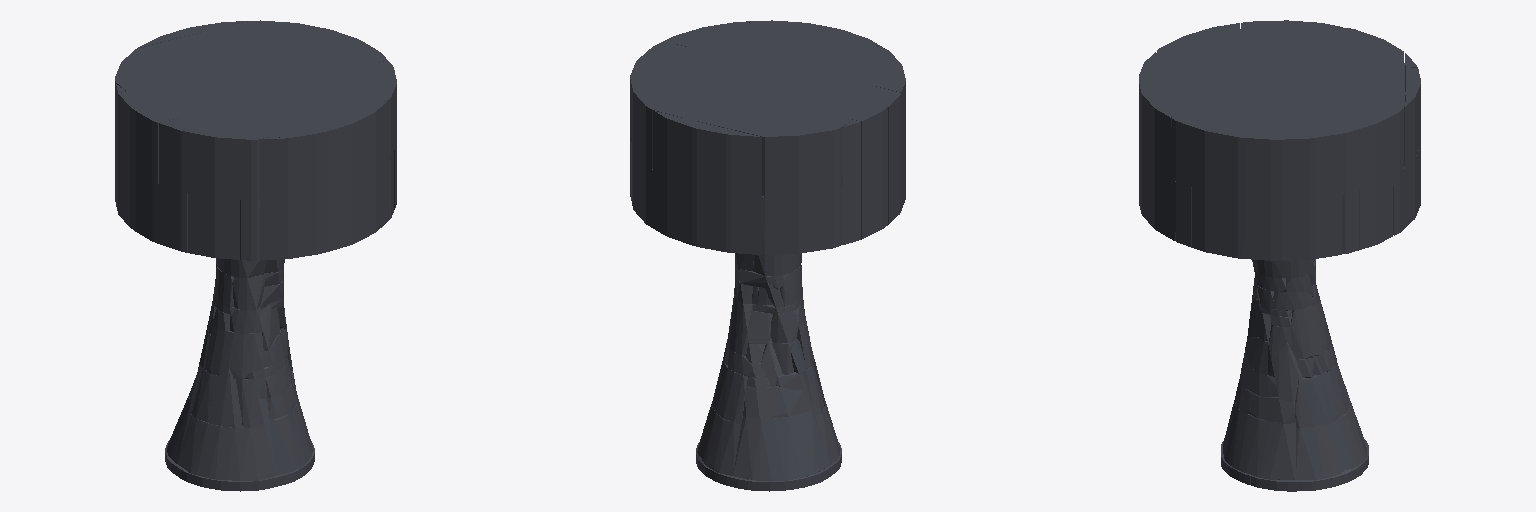
URDF robot description (../obj/lamp.urdf):
<?xml version="1.0" ?>
<robot name="../obj/lamp.urdf">
  <link name="baseLink">
    <inertial>
      <origin rpy="0 0 0" xyz="0.0011 0.002 0.0575"/>
       <mass value="50"/>
       <inertia ixx="8.92004524538395e-06" ixy="2.0707133592283134e-08" ixz="-1.8402974591021881e-07" iyy="8.92554545214849e-06" iyz="2.631056266457892e-07" izz="3.3063177081754754e-06"/>
    </inertial>
    <visual>
      <origin rpy="0 0 0" xyz="0.0011 0.002 0.0575"/>
      <geometry>
        <mesh filename="../obj/lamp_vhacd.obj" 
		scale="5.0 5.0 5.0"/>
      </geometry>
     <material name="grey">
      <color rgba="0.32 0.33 0.36 1"/>
     </material>
    </visual>
    <collision>
      <origin rpy="0 0 0" xyz="0.0011 0.002 0.0575"/>
      <geometry>
        <mesh filename="../obj/lamp_vhacd.obj" scale="5.0 5.0 5.0"/>
      </geometry>
    </collision>
  </link>
</robot>
        

--- Facts derived from the render (not from the file) ---
Views: 3 orthographic renders of the robot side by side, from view 1: azimuth 30°, elevation 25°; view 2: azimuth 150°, elevation 25°; view 3: azimuth 270°, elevation 25°.
Robot: ../obj/lamp.urdf — 1 links, 0 joints (none); root link baseLink; default pose: every joint at zero.
Visible links, largest first — view 1: baseLink; view 2: baseLink; view 3: baseLink.
Link boxes in pixels (x1=…): baseLink: x1=115, y1=20, x2=396, y2=491; baseLink: x1=630, y1=20, x2=905, y2=491; baseLink: x1=1139, y1=20, x2=1420, y2=491.
Size in the robot's own frame: 0.7859 by 0.7867 by 1.18 metres.
1 mesh visuals loaded from 1 distinct referenced files (1 OBJ).